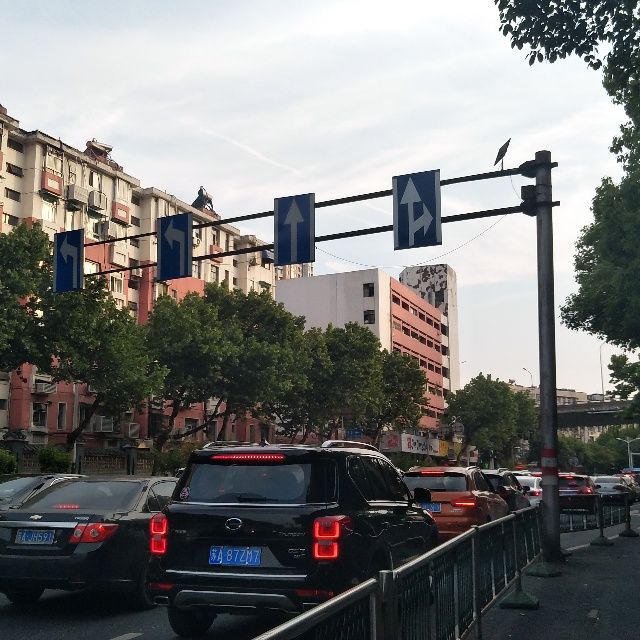left: (52, 230, 85, 294), (157, 218, 190, 278)
straight: (277, 196, 309, 270)
